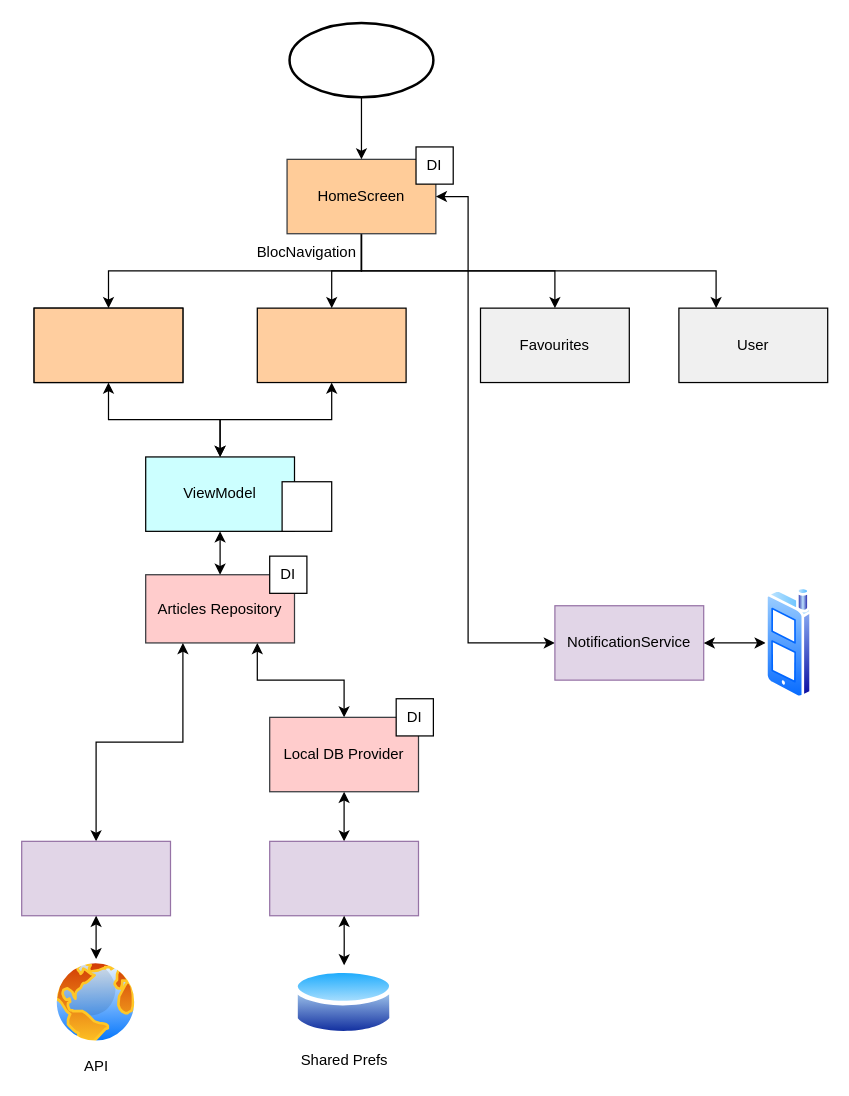
The diagram is 849 pixels wide and 1096 high, and some of its shapes have lost their labels. Here are the shapes that lost their labels. From the top down, the centre of each, then its label:
point 361,59: Main, Runner
point 108,345: Articles View
point 331,345: Categories View
point 306,505: Bloc, State, Event
point 788,642: Native
point 95,878: Api Service
point 343,878: Local DB Service
